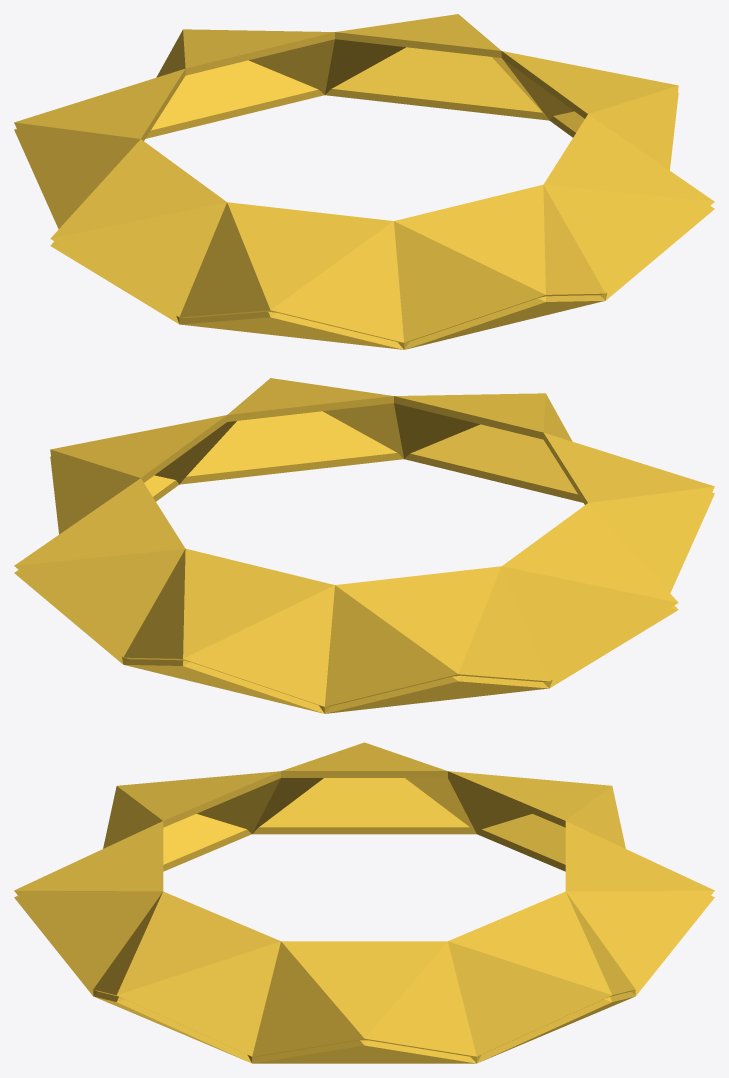
3 views of the same model, one above another, from view 1: azimuth 30°, elevation 25°; view 2: azimuth 150°, elevation 25°; view 3: azimuth 270°, elevation 25° (orthographic). The views are drawn at different scales.
Parts seen in each view (by area): view 1: 金色花瓣折纸颈环.001; view 2: 金色花瓣折纸颈环.001; view 3: 金色花瓣折纸颈环.001.
Boxes of the visible parts, x1=… form: 金色花瓣折纸颈环.001: x1=14, y1=14, x2=714, y2=349; 金色花瓣折纸颈环.001: x1=14, y1=378, x2=714, y2=713; 金色花瓣折纸颈环.001: x1=14, y1=742, x2=714, y2=1063.
Bounding box in the file's own units: 0.444 × 0.0648 × 0.444.
